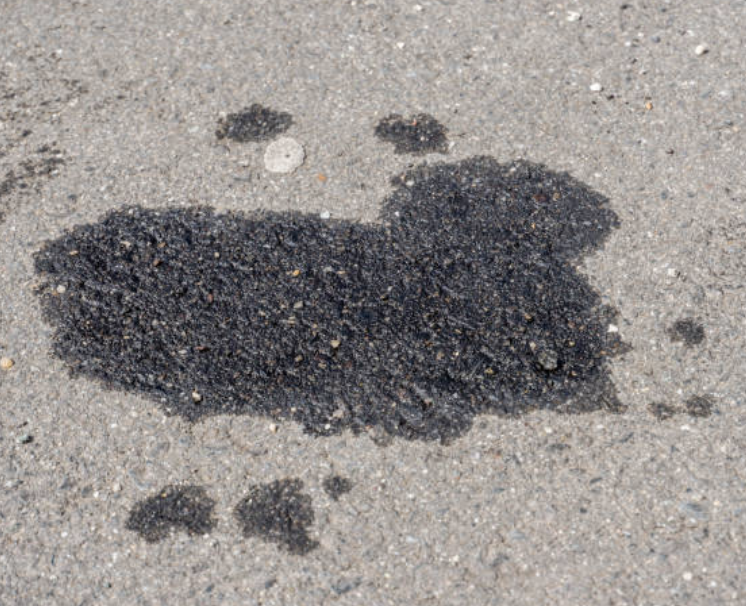oil: (16, 76, 314, 225), (117, 238, 176, 279), (64, 242, 108, 273), (106, 52, 149, 73), (188, 56, 225, 78), (325, 196, 359, 213), (334, 159, 354, 177)
